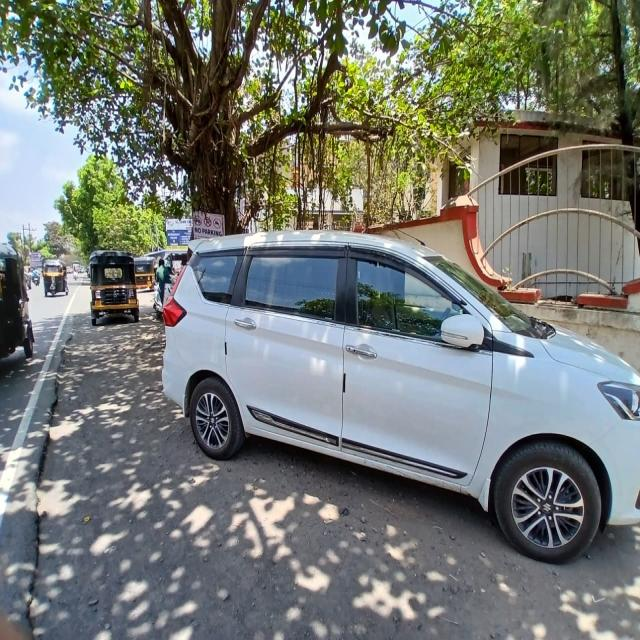illegalparking: (152, 188, 640, 593)
